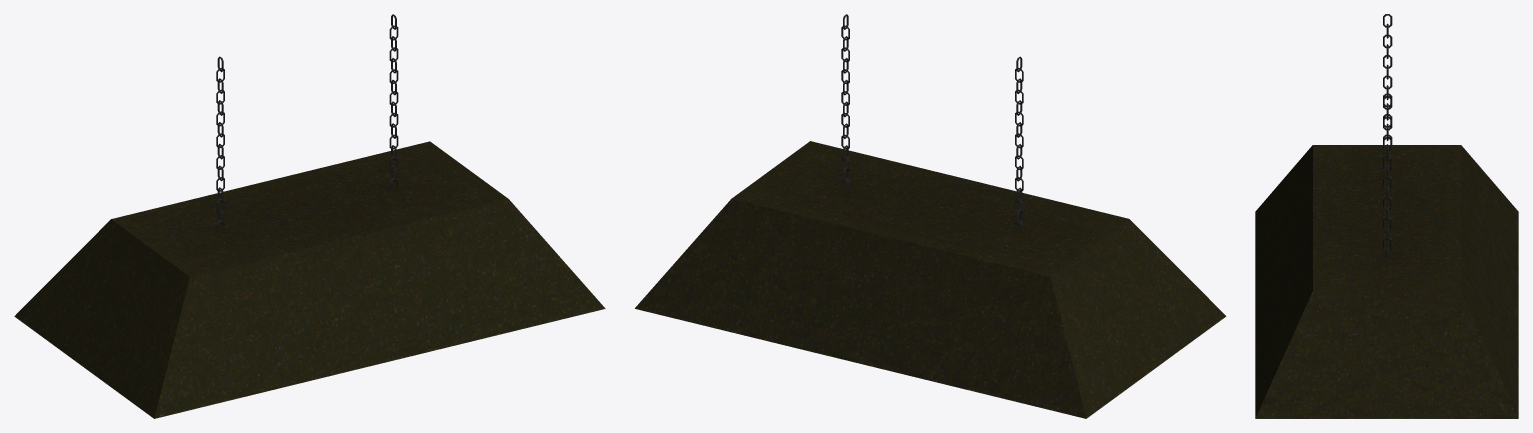
The model's file is PoolLightobj.obj.
The picture shows the model from 3 angles, left to right: view 1: azimuth 30°, elevation 25°; view 2: azimuth 150°, elevation 25°; view 3: azimuth 270°, elevation 25°; orthographic projection. The views are drawn at different scales.
Visible parts, largest first — view 1: Cube_Cube.001; view 2: Cube_Cube.001; view 3: Cube_Cube.001.
Part boxes in pixels (x1,y1,x2,y2): Cube_Cube.001: (14, 14, 605, 418); Cube_Cube.001: (635, 14, 1226, 418); Cube_Cube.001: (1255, 14, 1518, 418).
Bounding box in the file's own units: 6.3 × 3.69 × 3.39.
Materials: 1 (1 with a texture image).
